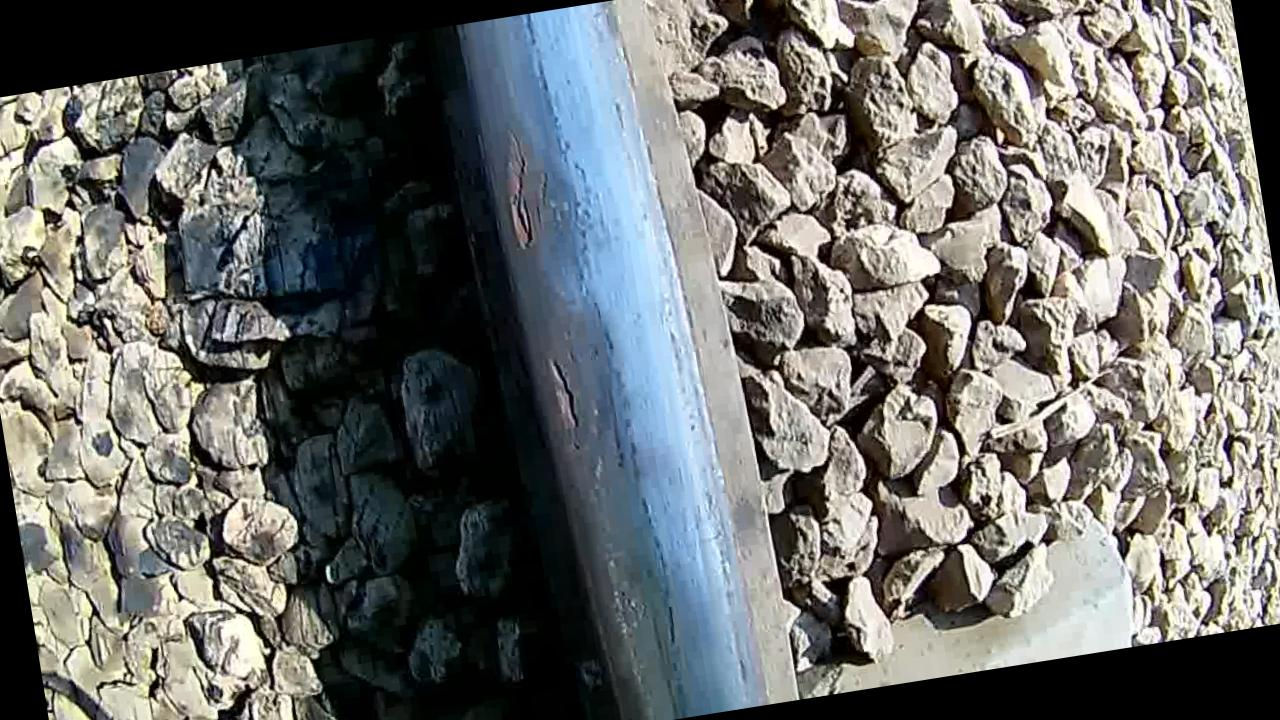crack: (461, 0, 741, 648)
